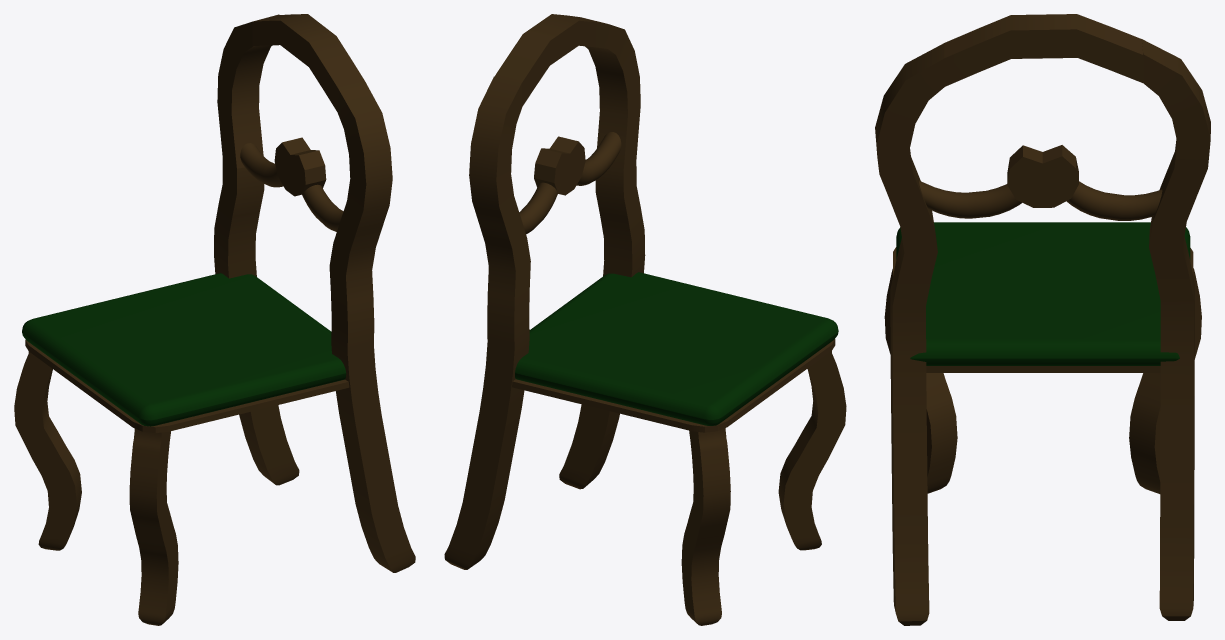
Rendered from ConservatoryChair.fbx.
3 renders of one model, left to right at view 1: azimuth 30°, elevation 25°; view 2: azimuth 150°, elevation 25°; view 3: azimuth 270°, elevation 25°, orthographic. The views are drawn at different scales.
Visible parts, largest first — view 1: pCube7; view 2: pCube7; view 3: pCube7.
Boxes of the visible parts, x1,y1,x2,y2 form: pCube7: [14, 14, 415, 625]; pCube7: [444, 14, 846, 625]; pCube7: [875, 14, 1210, 625].
Bounding box in the file's own units: 10.28 × 17.8 × 9.25.
